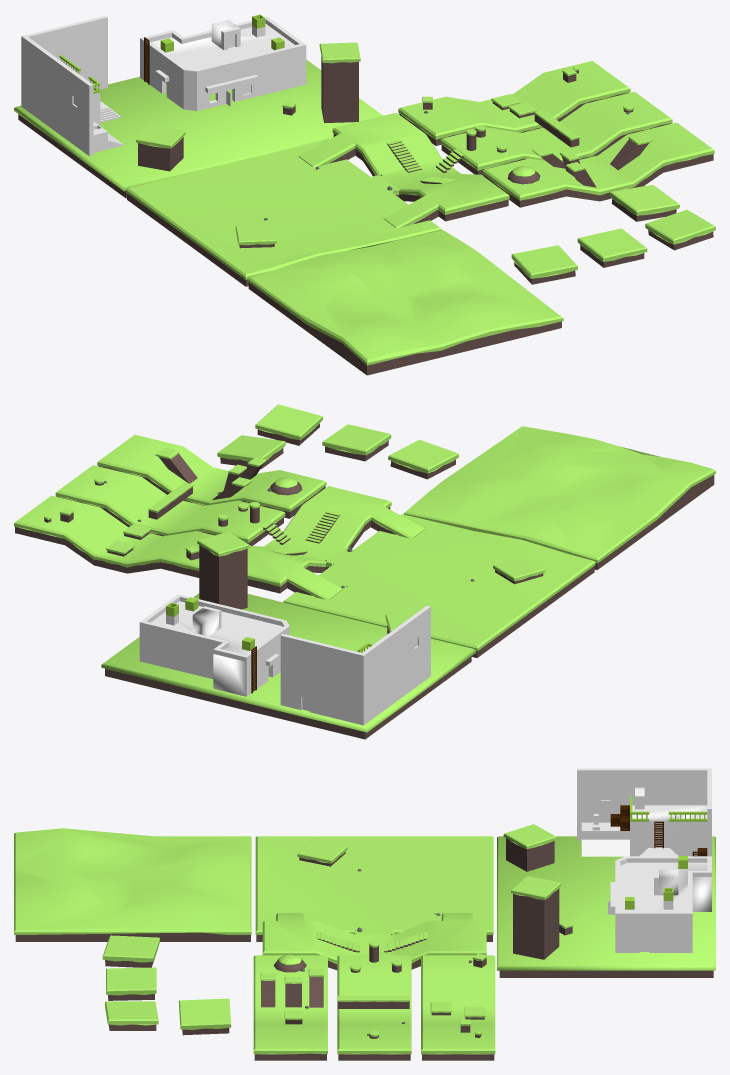
Rendered from testmapblend.glb.
3 renders of one model, top to bottom at view 1: azimuth 30°, elevation 25°; view 2: azimuth 150°, elevation 25°; view 3: azimuth 270°, elevation 25°, orthographic.
Parts seen in each view (by area): view 1: Cube.010; view 2: Cube.010; view 3: Cube.010.
Boxes of the visible parts, bbox=[...] form: Cube.010: bbox=[14, 14, 715, 375]; Cube.010: bbox=[14, 404, 715, 739]; Cube.010: bbox=[14, 768, 715, 1060].
Bounding box in the file's own units: 111 × 18.98 × 145.
